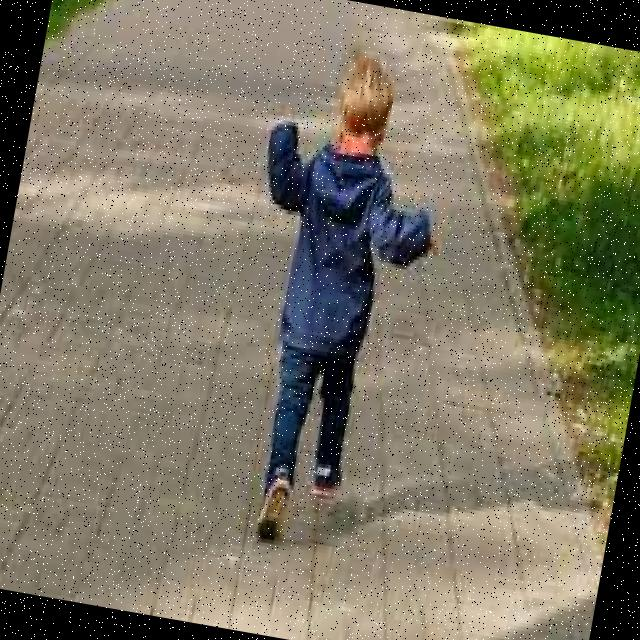Person: (198, 39, 469, 564)
